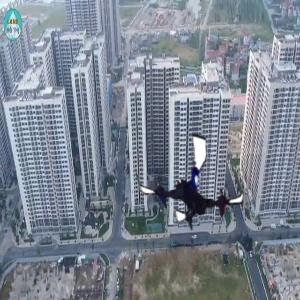drone: (135, 126, 248, 239)
